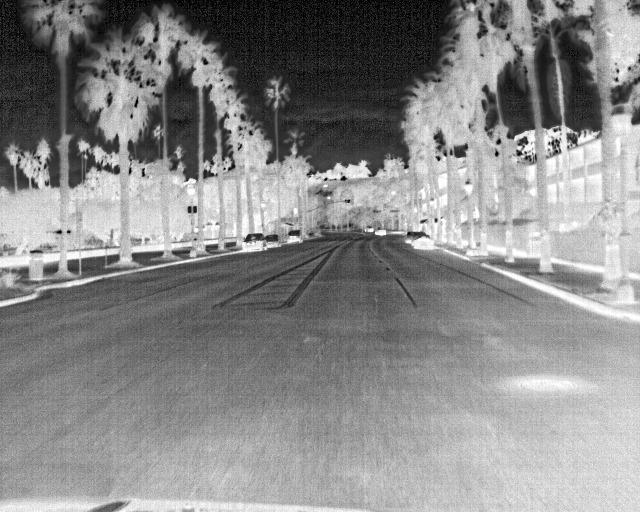car: (242, 232, 268, 250), (411, 234, 434, 250), (411, 230, 429, 246), (262, 234, 279, 249), (285, 228, 302, 243), (405, 230, 418, 245), (372, 225, 388, 237), (363, 225, 375, 234)
